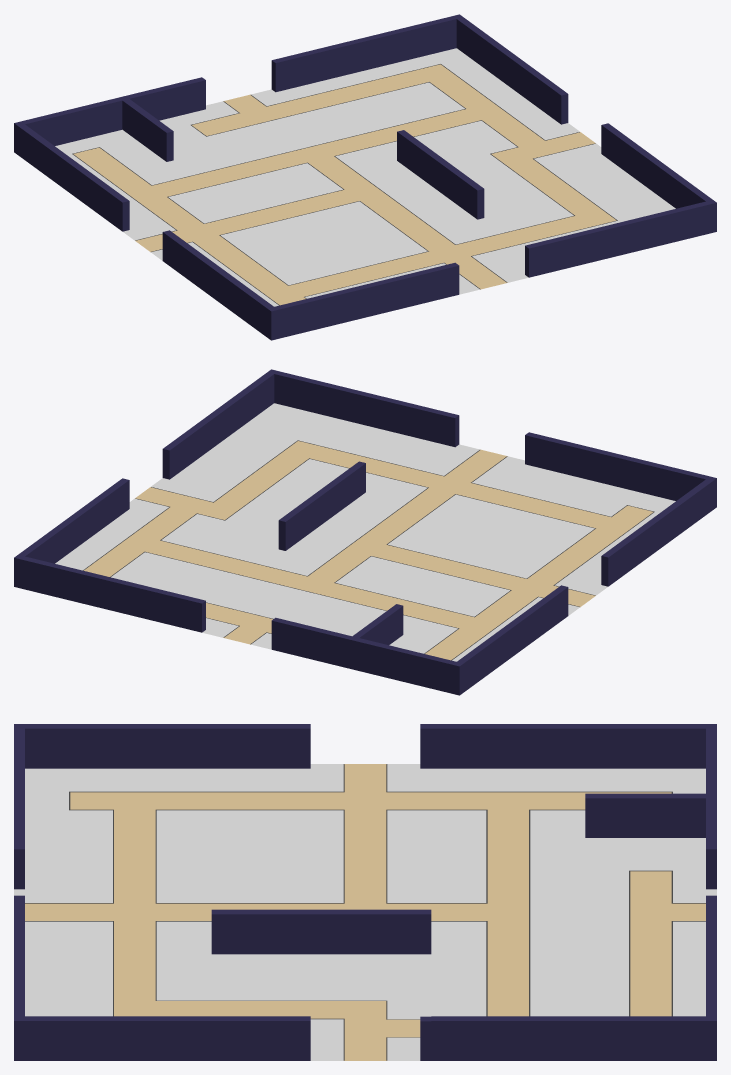
File: Room2.fbx
The picture shows the model from 3 angles, top to bottom: view 1: azimuth 30°, elevation 25°; view 2: azimuth 150°, elevation 25°; view 3: azimuth 270°, elevation 25°; orthographic projection. The views are drawn at different scales.
Parts seen in each view (by area): view 1: Plane; view 2: Plane; view 3: Plane.
Boxes of the visible parts, x1,y1,x2,y2 form: Plane: [14, 14, 716, 340]; Plane: [14, 369, 716, 695]; Plane: [14, 724, 716, 1060].
Bounding box in the file's own units: 800 × 50 × 800.
